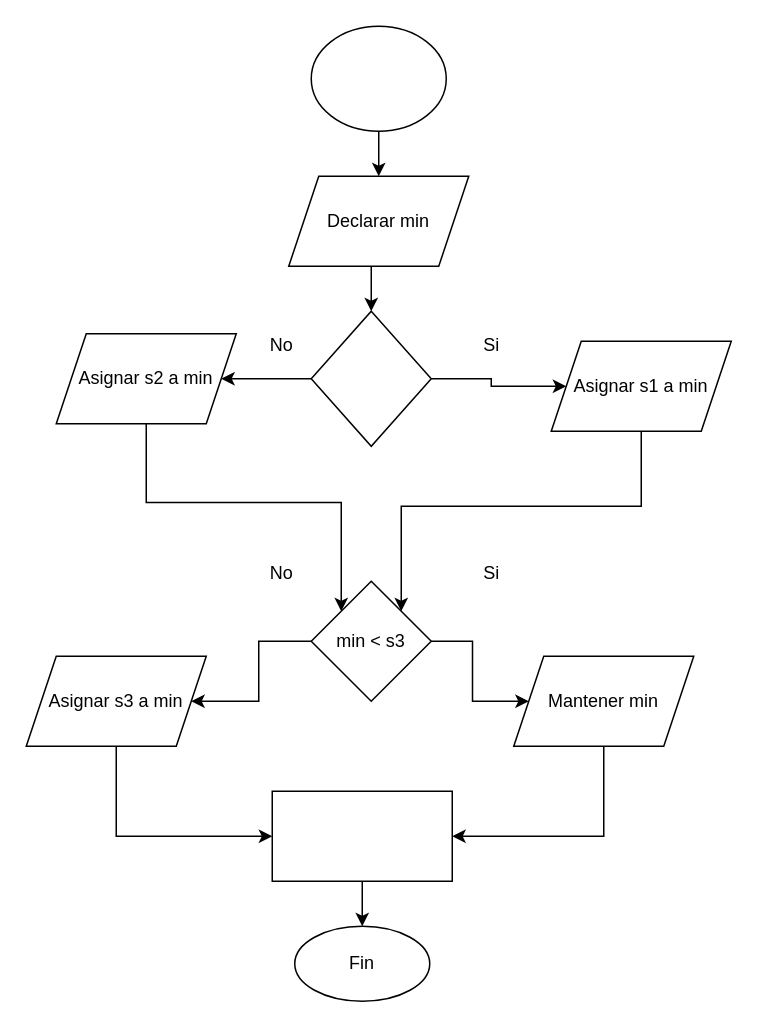
The diagram is 758 pixels wide and 1028 high, and some of its shapes have lost their labels. The centre of each missing label's shape, as x and y in pixels:
Imprimir min: pixel 361 835
Inicio: pixel 378 78
s1 < s2: pixel 370 378
